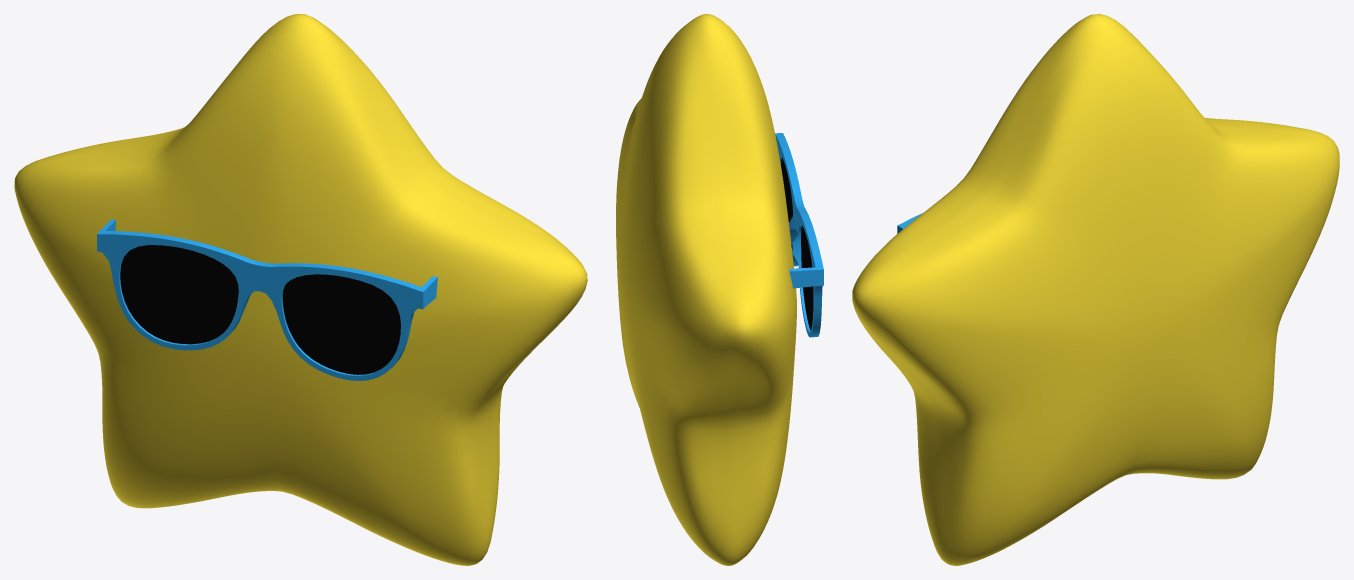
File: Star.fbx
The picture shows the model from 3 angles, left to right: view 1: azimuth 30°, elevation 25°; view 2: azimuth 150°, elevation 25°; view 3: azimuth 270°, elevation 25°; orthographic projection. The views are drawn at different scales.
Visible parts, largest first — view 1: star; view 2: star; view 3: star.
Part boxes in pixels (x1,y1,x2,y2): star: [14, 14, 587, 565]; star: [616, 14, 823, 565]; star: [852, 14, 1339, 565].
Bounding box in the file's own units: 14.79 × 21.13 × 18.51.
